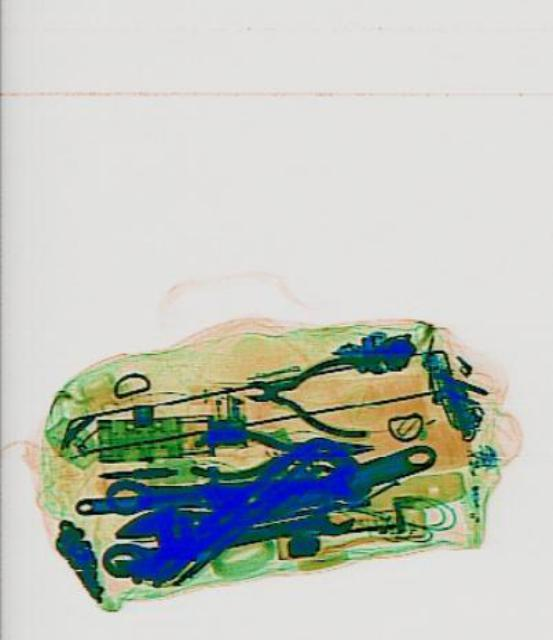Pliers: (185, 416, 372, 480), (242, 352, 369, 436)
Wrench: (223, 494, 356, 554)
